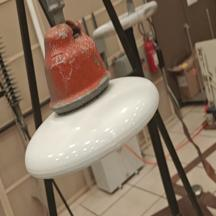insulator: (18, 15, 166, 188)
